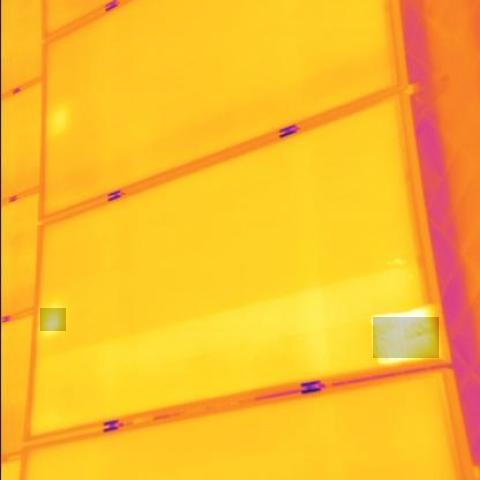fault: (374, 317, 440, 358), (40, 308, 66, 331)
